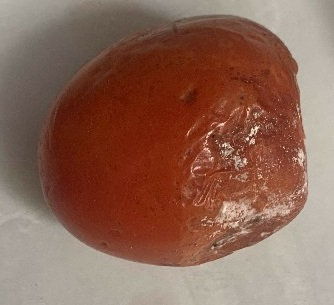NG: (29, 9, 321, 275)
